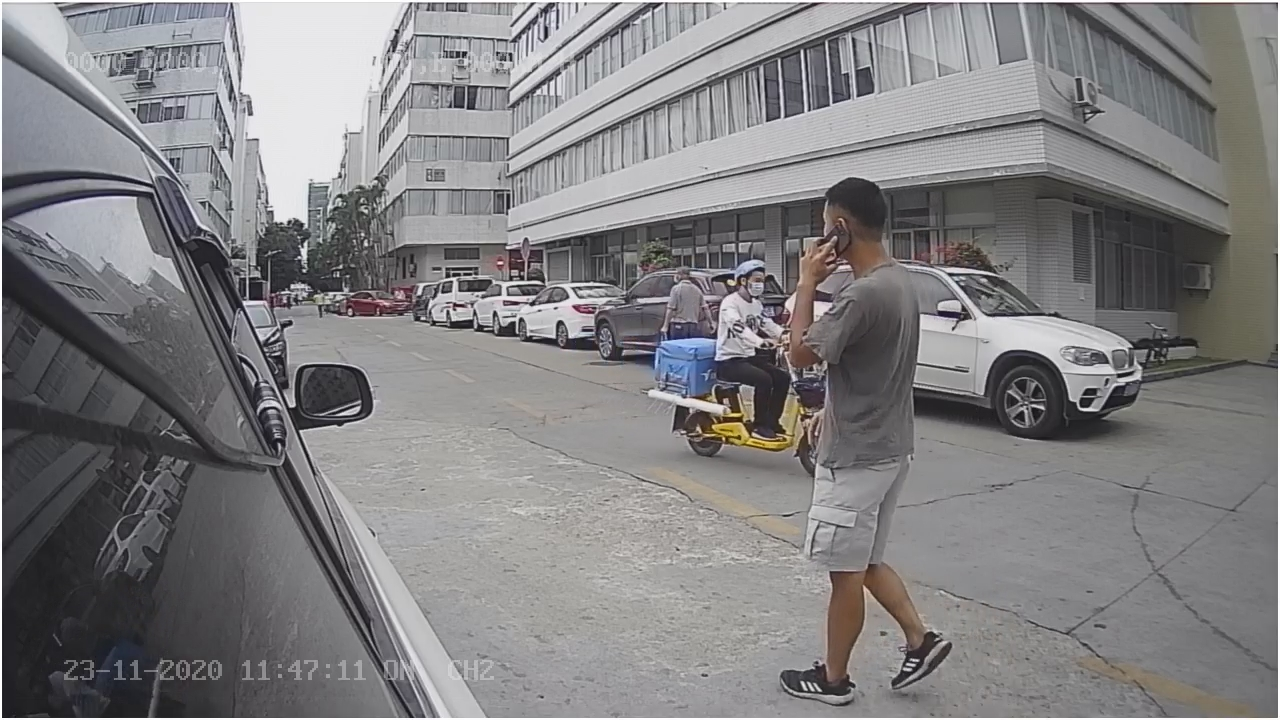person: (781, 162, 954, 704)
